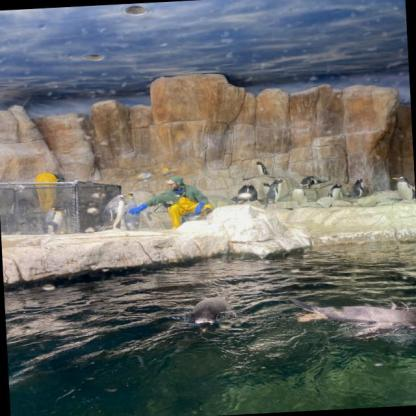penguin: (288, 293, 416, 343), (187, 294, 230, 334), (97, 194, 131, 231), (121, 192, 152, 231), (263, 178, 288, 208), (41, 206, 66, 234), (390, 176, 415, 204), (347, 178, 366, 198), (231, 184, 249, 205), (12, 198, 30, 217), (327, 184, 346, 200), (301, 176, 327, 186), (255, 160, 267, 176), (247, 184, 257, 202), (262, 182, 270, 200)
